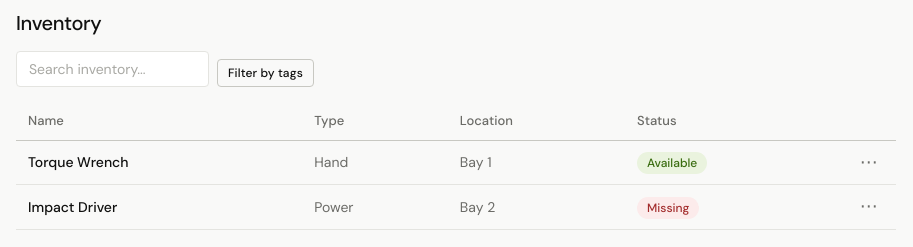
Test: InventoryPage — tag filter › opens the dropdown and shows tag chips when the button is clicked
The image size is (913, 247).
What coordinates should you click on to do the following:
click the button "Filter by tags"
I would click on:
 (265, 73)
Its box is [217,59,314,87].
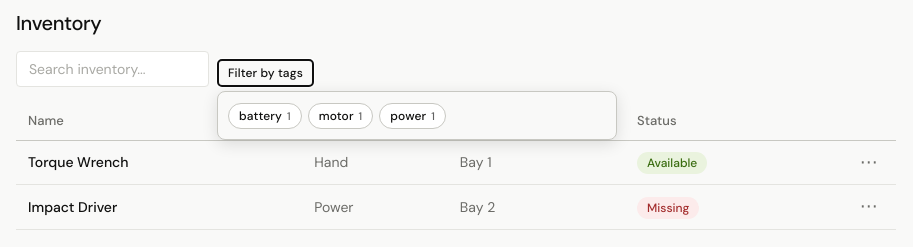
Expected: the button "battery1" is shown, [228,103,302,129]
Expected: the button "motor1" is shown, [308,103,373,129]
